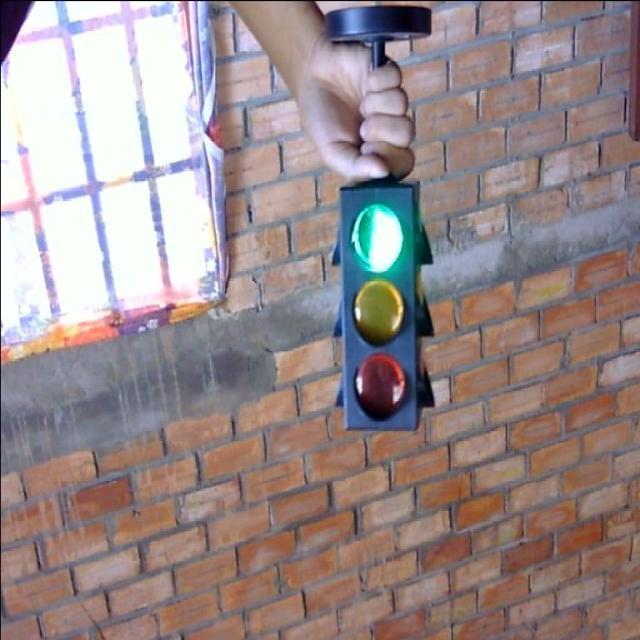green_light: (330, 177, 432, 428)
